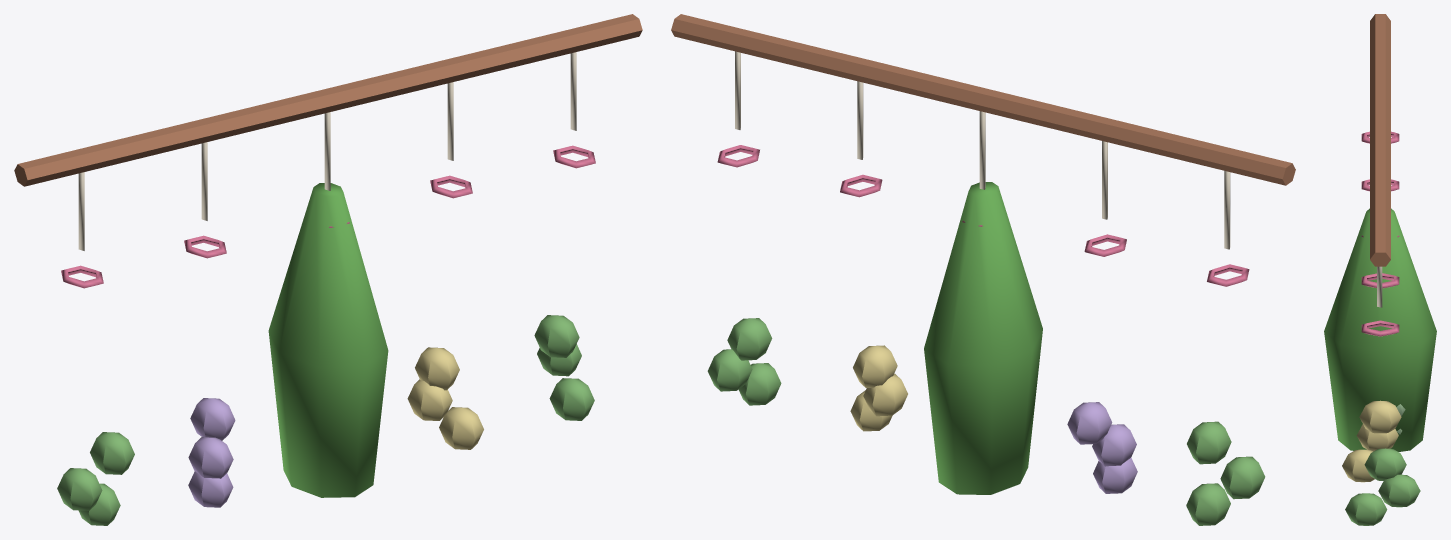
Rendered from herb_bundle_hanging.glb.
3 renders of one model, left to right at view 1: azimuth 30°, elevation 25°; view 2: azimuth 150°, elevation 25°; view 3: azimuth 270°, elevation 25°, orthographic. The views are drawn at different scales.
Parts seen in each view (by area): view 1: herb_bundle_hanging; view 2: herb_bundle_hanging; view 3: herb_bundle_hanging.
Part boxes in pixels (bbox=[...]): herb_bundle_hanging: bbox=[14, 14, 642, 525]; herb_bundle_hanging: bbox=[671, 14, 1295, 525]; herb_bundle_hanging: bbox=[1324, 14, 1436, 525].
Size of what is drawn, in the model's own units: 1 by 0.6 by 0.2.
